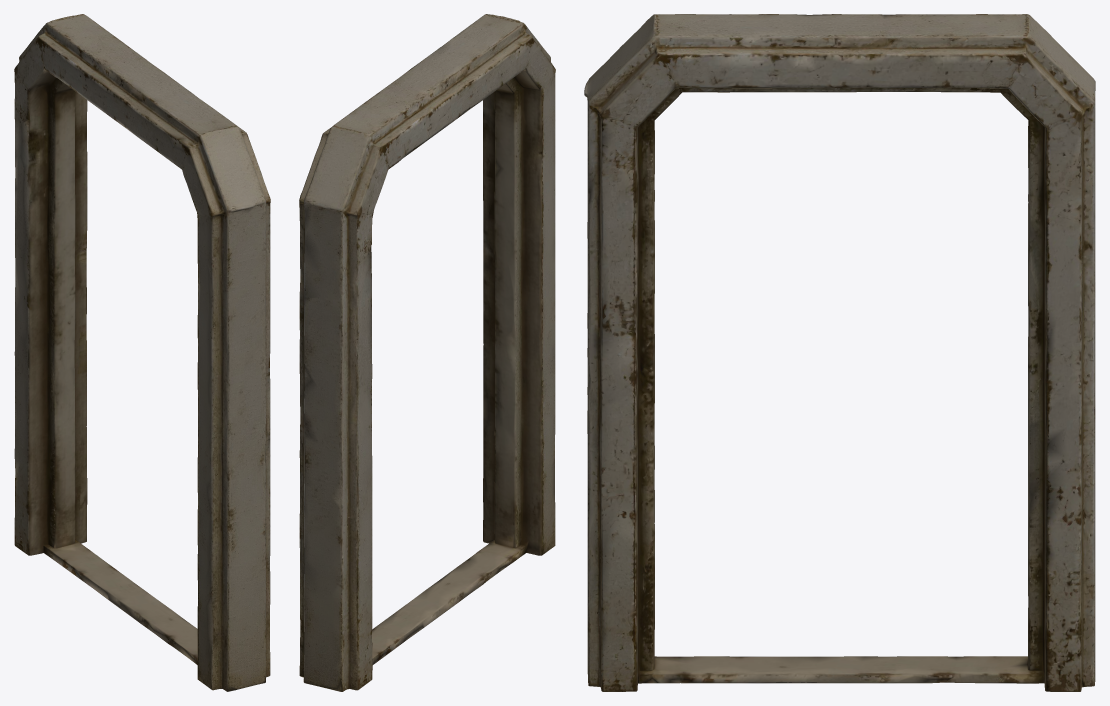
File: kapi_cerceve_tripo.glb
The picture shows the model from 3 angles, left to right: view 1: azimuth 30°, elevation 25°; view 2: azimuth 150°, elevation 25°; view 3: azimuth 270°, elevation 25°; orthographic projection. The views are drawn at different scales.
Visible parts, largest first — view 1: tripo_node_07b5f718-35e3-4ad8-8fb2-09e2574a61f0; view 2: tripo_node_07b5f718-35e3-4ad8-8fb2-09e2574a61f0; view 3: tripo_node_07b5f718-35e3-4ad8-8fb2-09e2574a61f0.
Boxes of the visible parts, x1,y1,x2,y2 form: tripo_node_07b5f718-35e3-4ad8-8fb2-09e2574a61f0: (14,14,270,691); tripo_node_07b5f718-35e3-4ad8-8fb2-09e2574a61f0: (299,14,555,691); tripo_node_07b5f718-35e3-4ad8-8fb2-09e2574a61f0: (584,14,1095,691).
Bounding box in the file's own units: 0.1165 × 1 × 0.7106.
1 material, 1 textured.
